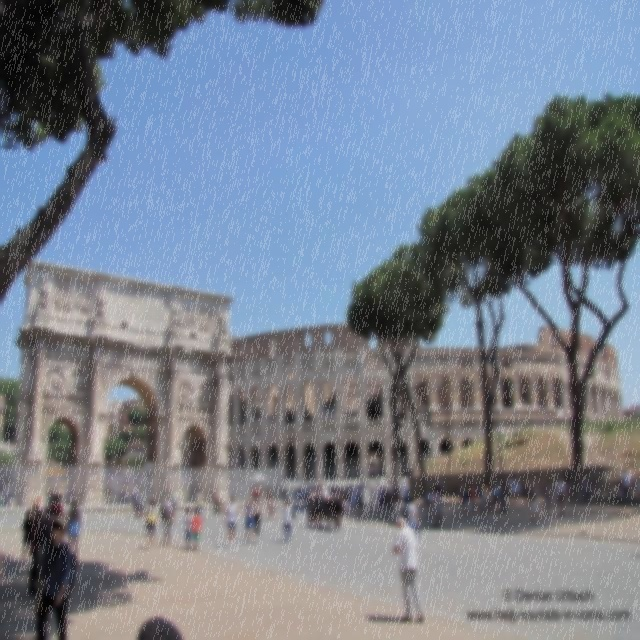pessoa: (34, 513, 74, 639), (392, 513, 427, 626), (36, 509, 56, 605), (29, 508, 47, 598), (132, 609, 186, 639), (30, 506, 55, 566), (63, 498, 82, 561), (36, 565, 56, 624), (404, 492, 422, 552), (222, 494, 240, 548), (20, 506, 36, 566), (172, 296, 195, 334), (242, 496, 257, 545), (163, 492, 176, 548), (51, 282, 72, 316), (527, 481, 543, 524), (618, 466, 634, 508), (146, 499, 158, 551), (528, 480, 542, 524), (553, 474, 567, 518), (190, 506, 203, 552), (280, 498, 293, 544), (35, 274, 49, 315), (94, 282, 108, 322), (249, 494, 262, 537), (541, 478, 554, 521), (73, 288, 92, 316), (68, 371, 90, 395), (102, 470, 136, 484), (48, 368, 66, 394), (178, 380, 194, 408), (194, 488, 207, 522), (184, 507, 194, 551), (432, 484, 442, 528), (628, 472, 640, 508), (315, 480, 330, 508), (586, 476, 600, 506), (130, 486, 142, 520), (433, 486, 443, 524), (196, 312, 213, 334), (197, 385, 213, 407), (218, 304, 228, 339), (512, 472, 522, 506), (380, 487, 390, 521), (50, 491, 64, 515), (468, 482, 478, 514), (138, 490, 148, 520), (267, 492, 277, 522), (166, 487, 176, 516), (430, 498, 440, 527), (612, 479, 624, 503), (44, 470, 68, 482), (520, 477, 530, 505), (508, 474, 518, 502), (212, 488, 220, 520), (459, 482, 467, 514), (2, 480, 14, 501), (476, 481, 484, 512), (464, 487, 472, 518), (491, 483, 500, 510), (581, 480, 592, 502), (481, 480, 489, 510), (426, 488, 434, 518), (424, 490, 432, 520), (357, 488, 365, 517), (350, 488, 358, 517), (0, 546, 6, 584), (271, 492, 279, 520), (487, 484, 494, 514), (497, 476, 504, 506), (374, 486, 382, 512), (256, 491, 263, 520), (386, 486, 394, 511), (60, 485, 70, 504), (345, 487, 351, 518), (46, 490, 58, 505), (135, 476, 146, 492), (368, 488, 375, 512), (130, 488, 137, 512), (322, 486, 331, 504), (291, 486, 299, 506), (304, 483, 310, 507), (230, 478, 238, 496), (298, 485, 304, 507), (336, 496, 347, 508), (332, 484, 342, 497), (347, 492, 352, 518), (392, 482, 400, 498), (265, 420, 273, 436), (32, 495, 40, 510), (265, 486, 271, 506), (401, 483, 408, 500), (299, 473, 307, 487), (300, 487, 306, 505), (550, 486, 556, 504), (437, 479, 442, 500), (356, 492, 360, 518), (326, 485, 334, 497), (310, 480, 318, 492), (113, 484, 119, 500), (468, 495, 473, 514), (254, 485, 260, 500), (386, 474, 392, 489), (282, 473, 288, 488), (369, 464, 375, 479), (462, 492, 466, 514), (403, 490, 410, 502), (566, 479, 572, 493), (360, 474, 366, 488), (118, 490, 124, 503), (378, 473, 384, 486), (237, 484, 243, 497), (398, 472, 403, 487), (389, 473, 394, 488), (486, 476, 492, 488), (249, 486, 254, 500), (374, 472, 379, 486), (353, 482, 361, 490), (346, 483, 353, 492), (0, 615, 5, 627), (369, 482, 375, 492), (372, 496, 377, 508), (342, 484, 347, 496), (106, 485, 110, 500), (288, 486, 292, 500), (124, 490, 128, 503), (563, 490, 568, 500), (379, 484, 385, 492), (310, 473, 316, 481), (297, 486, 300, 502), (292, 486, 296, 498), (332, 496, 337, 505), (400, 489, 404, 500), (42, 502, 49, 508), (421, 497, 426, 505), (322, 475, 326, 485), (292, 496, 296, 506), (182, 476, 186, 486), (186, 476, 190, 486), (366, 476, 369, 488), (260, 485, 266, 491), (53, 484, 58, 491), (307, 478, 311, 486), (307, 485, 311, 493), (228, 479, 230, 495), (384, 486, 389, 492), (476, 485, 478, 497), (408, 490, 412, 496), (285, 488, 288, 494), (302, 486, 304, 494), (368, 469, 370, 477), (333, 479, 336, 484), (286, 493, 288, 499), (374, 466, 376, 472), (180, 481, 182, 485)
